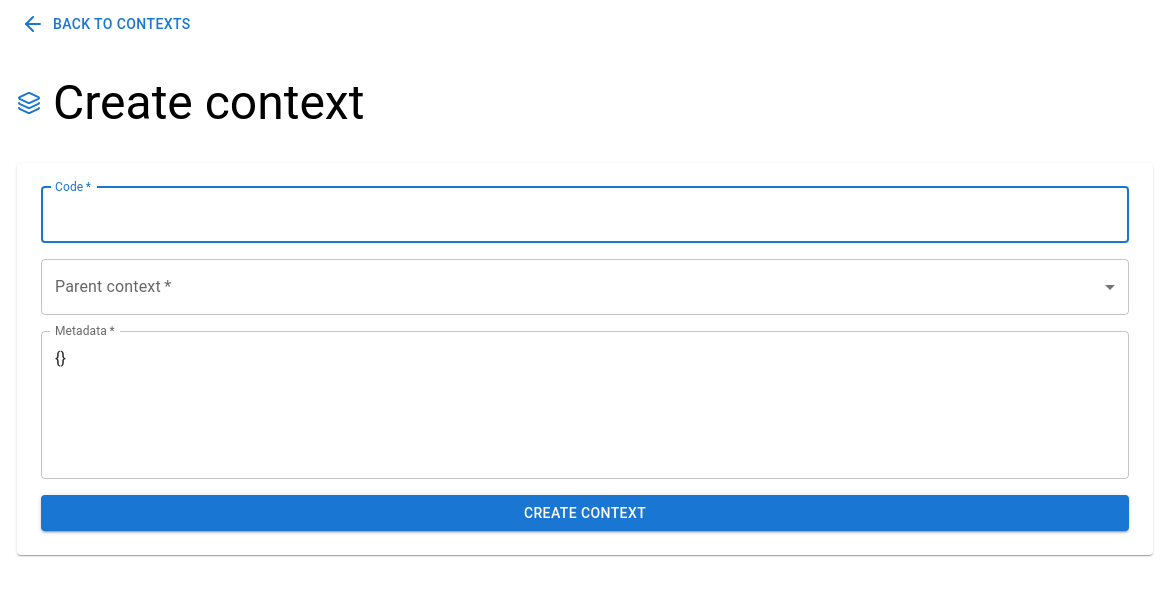
Test: CreateContextPage › reports invalid metadata without creating the context
The width and height of the screenshot is (1171, 597).
Step 1. Type "example" into the field labelled "Code" → (585, 214), box [41,186,1129,242]
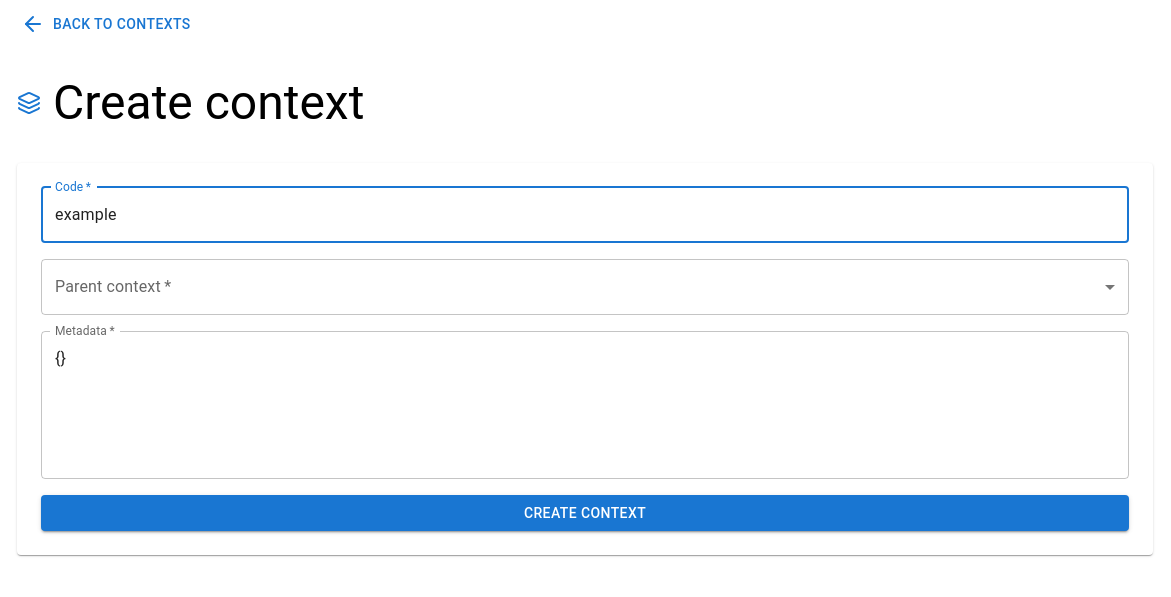
Step 2. Click the dropdown named "Parent context" → (585, 286), box [41,258,1129,314]
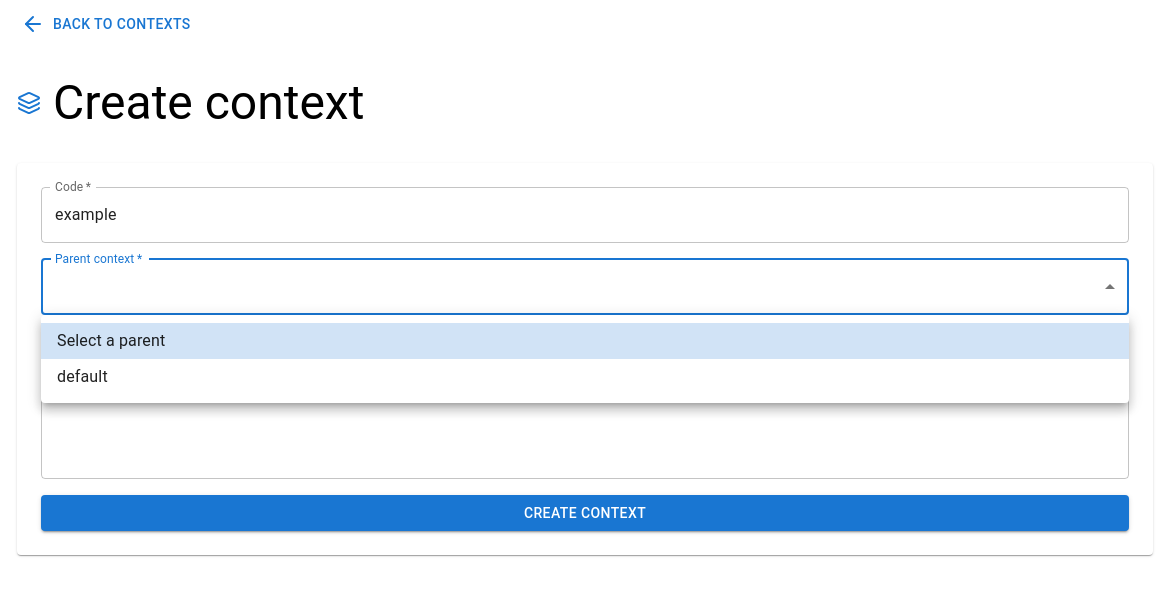
Step 3. Click the option "default" → (82, 376), box [57,367,108,386]
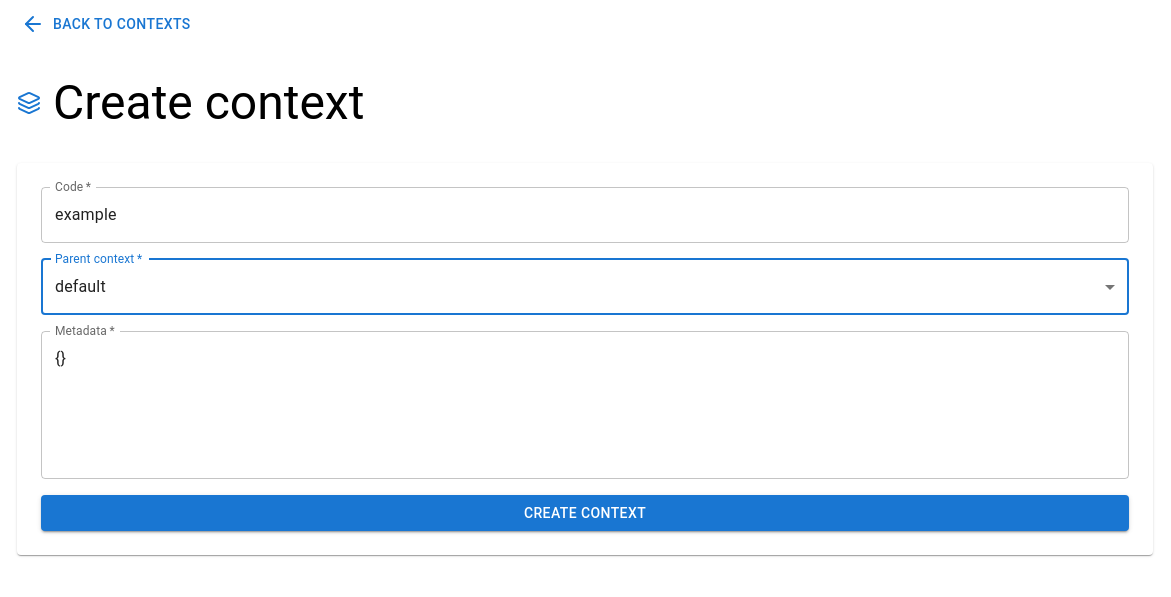
Step 4. Replace the text in the text box labelled "Metadata" with "[ []" → (585, 404), box [55,347,1115,462]
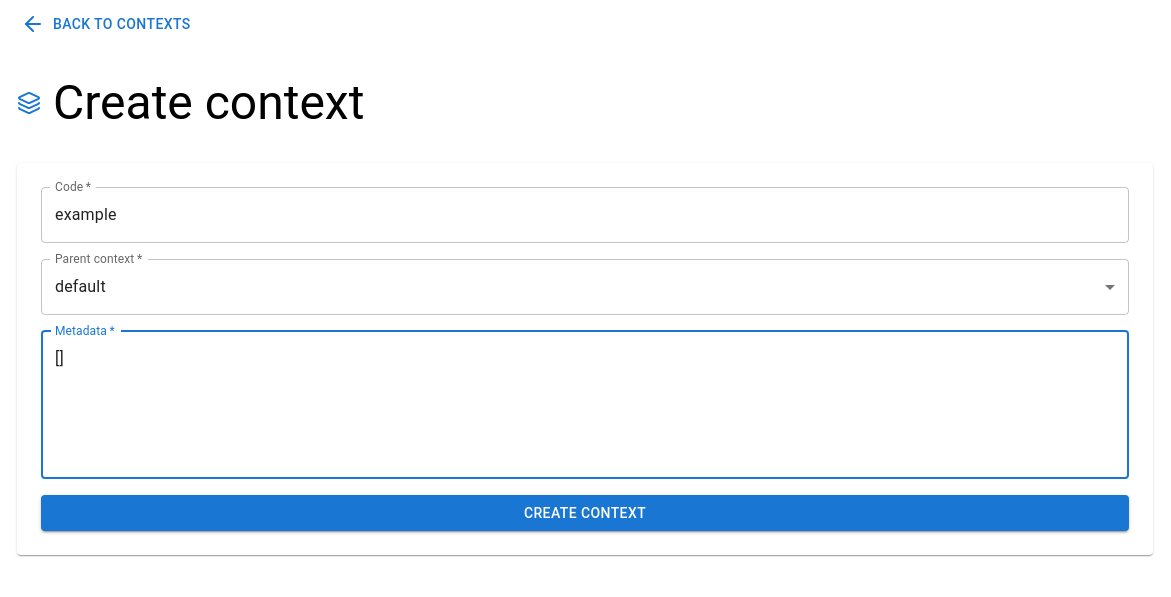
Step 5. Click the button "Create context" → (585, 513), box [41,494,1129,531]
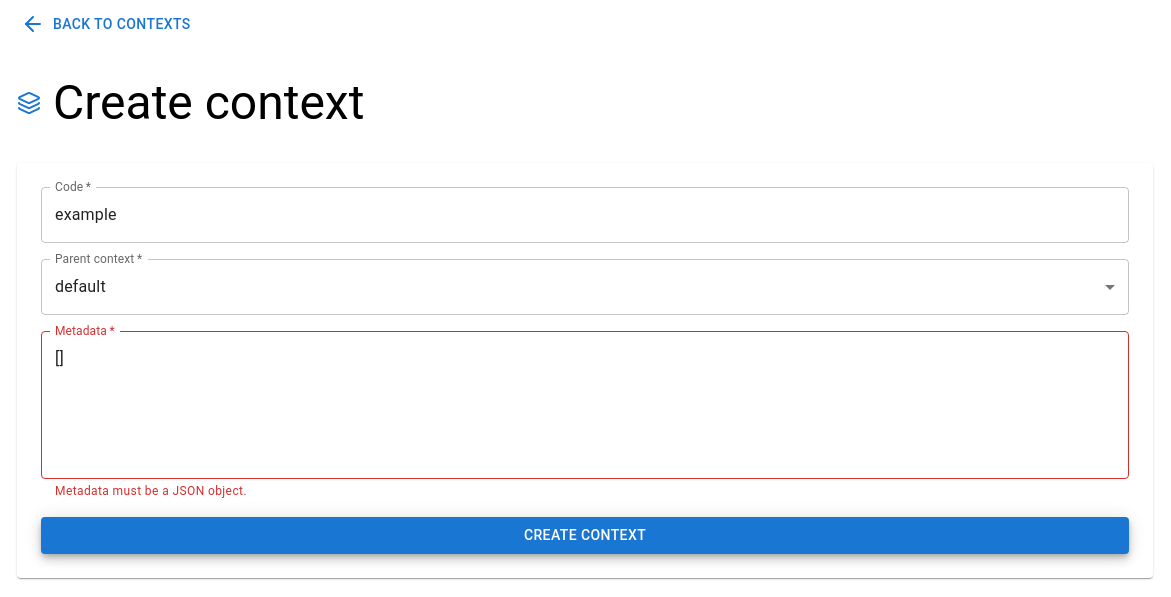
Expected: the text "Metadata must be a JSON object." is shown, [55,484,247,498]
